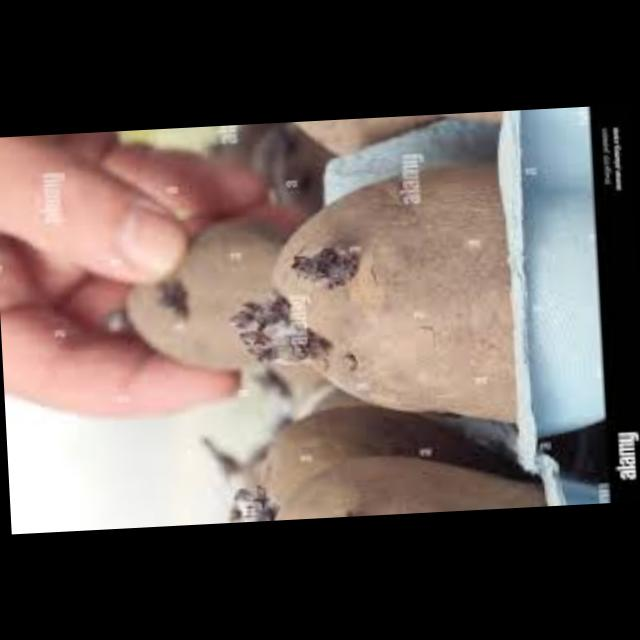Sprouted potato: (200, 148, 582, 458)
